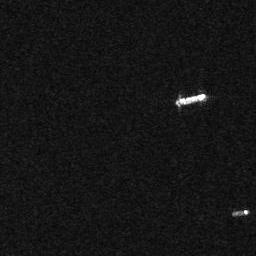ship: (175, 93, 207, 106)
